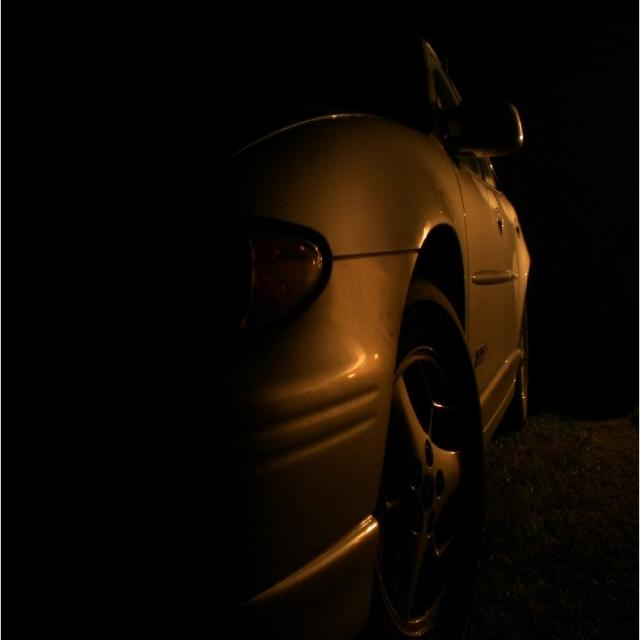Car: (37, 13, 620, 633)
